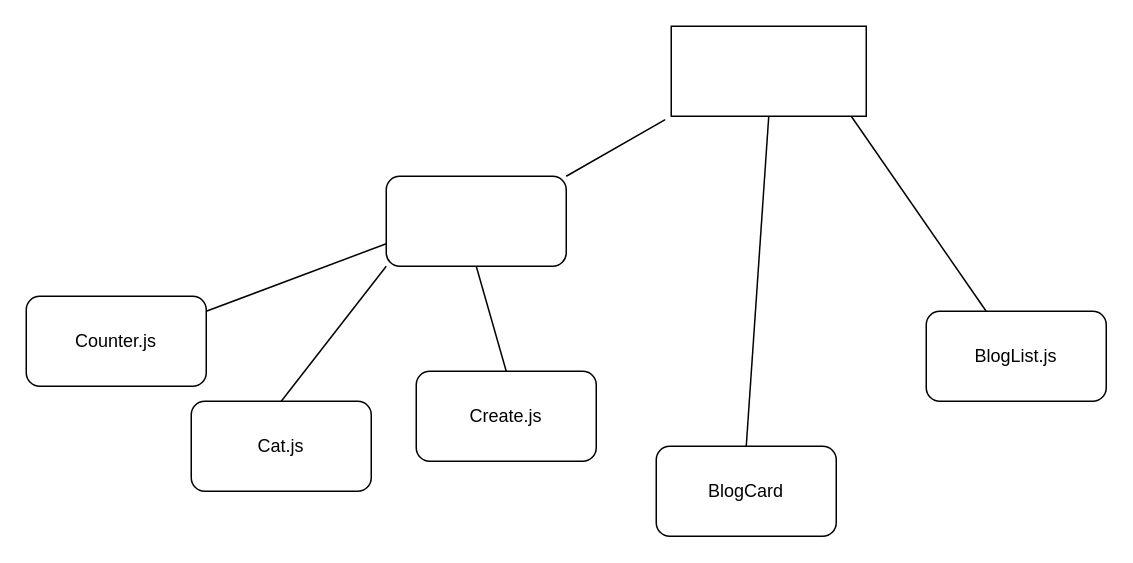
Image size: 1133x563. Some labels were removed from this diagram. The shapes that lost their labels are listed below. From the top down, each one's centre as x and y in pixels, then its label:
At point 768,70: "App.js".
At point 475,220: "Navbar.js".
